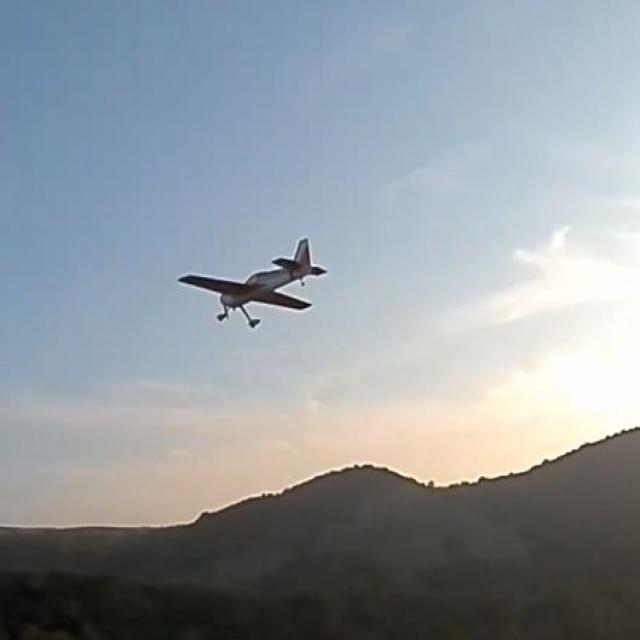iha: (176, 268, 328, 300)
